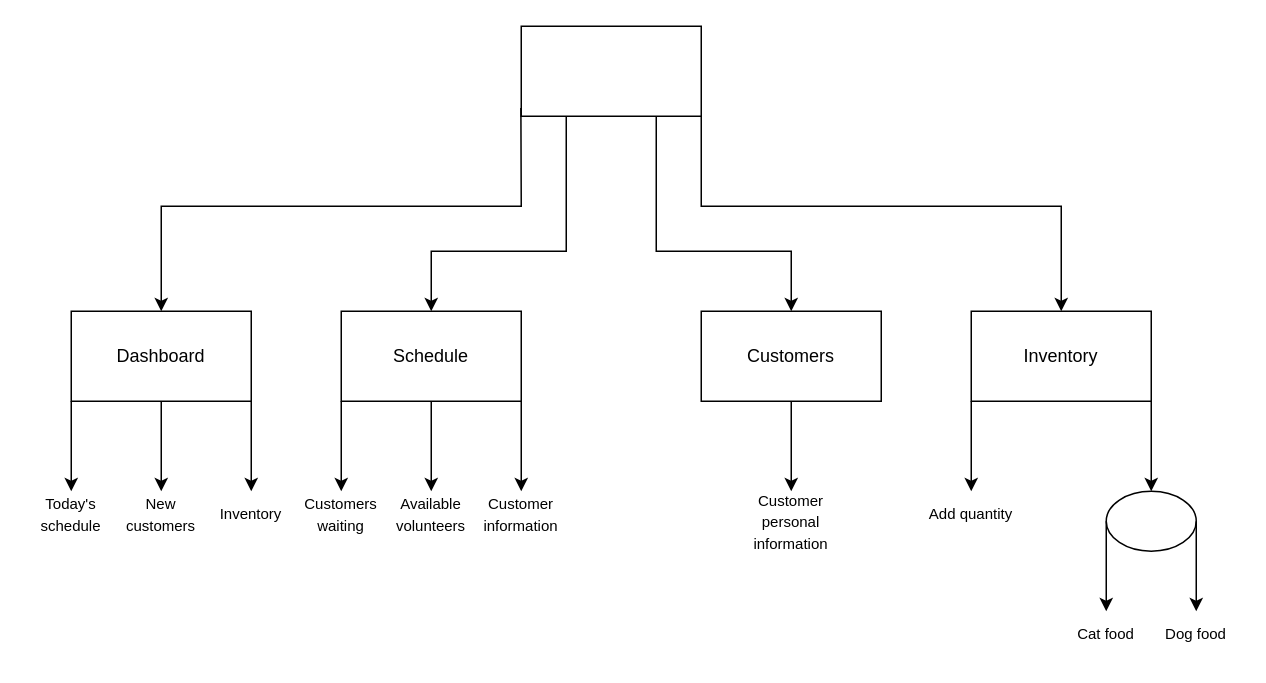
This 1266x683 diagram has some shape labels left out. The box of each missing label's shape, as (x1, y1, x2, y2) in pixels:
Amount: (1105, 490, 1196, 551)
Home Screen: (520, 25, 701, 116)
